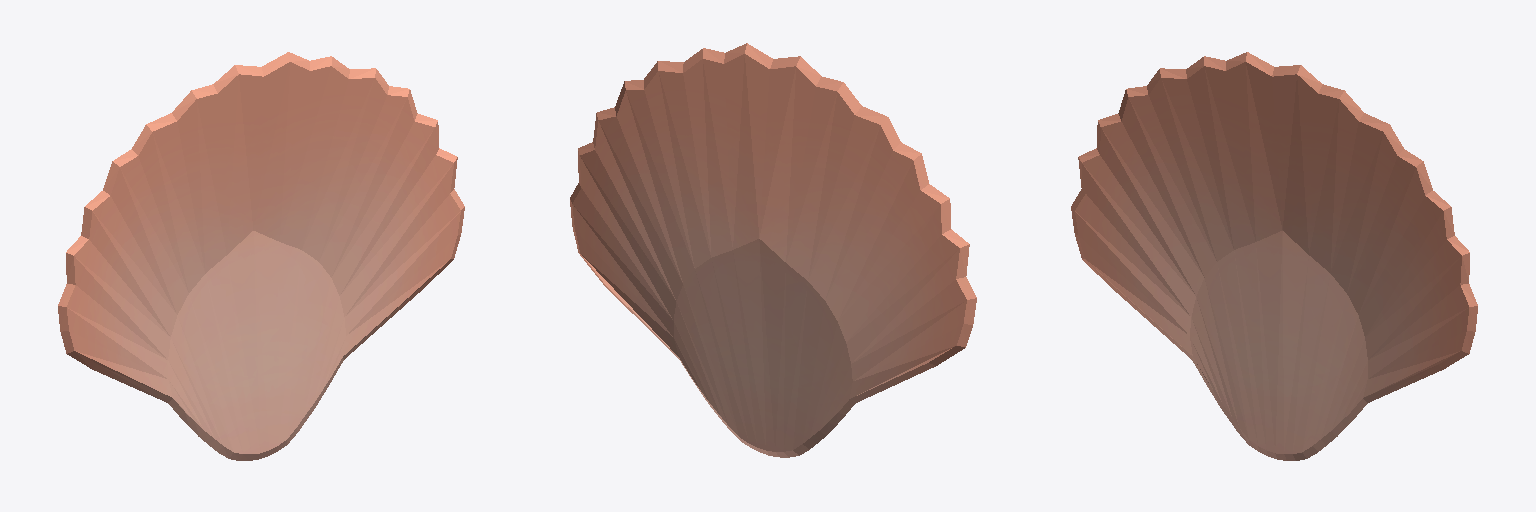
3 renders of one model, left to right at view 1: azimuth 30°, elevation 25°; view 2: azimuth 150°, elevation 25°; view 3: azimuth 330°, elevation 25°, orthographic.
Parts seen in each view (by area): view 1: obj1; view 2: obj1; view 3: obj1.
Boxes of the visible parts, x1=… form: obj1: x1=58, y1=52, x2=464, y2=460; obj1: x1=570, y1=43, x2=976, y2=457; obj1: x1=1071, y1=52, x2=1477, y2=460.
Size of the model in its own units: 0.1012 by 0.0958 by 0.0074.
Materials: 1 (1 with a texture image).